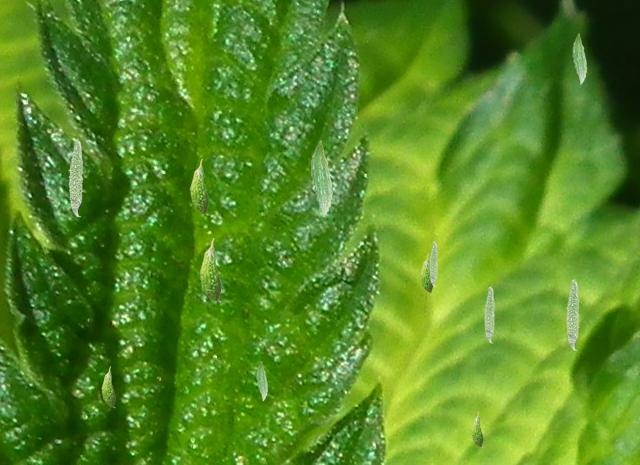ampalaya: (310, 140, 333, 217), (199, 237, 221, 302), (68, 138, 83, 217), (189, 158, 209, 215), (565, 278, 579, 351), (572, 33, 587, 85), (483, 285, 495, 343), (101, 365, 116, 408), (419, 253, 433, 293), (256, 360, 268, 401), (470, 411, 483, 447), (429, 240, 438, 287)
